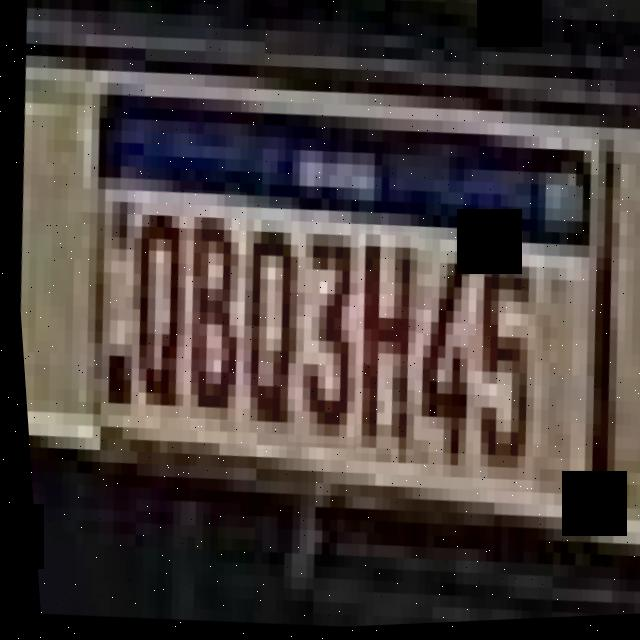3: (269, 207, 375, 451)
4: (401, 242, 485, 476)
5: (453, 253, 547, 496)
B: (160, 188, 256, 426)
H: (337, 231, 426, 462)
Q: (217, 203, 310, 454), (108, 190, 198, 415)
